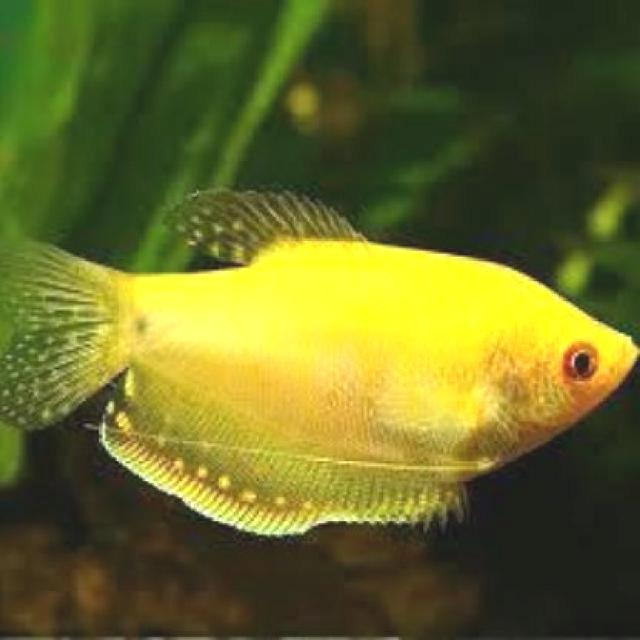gurame: (11, 222, 634, 522)
